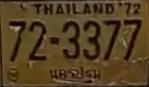2: (28, 20, 46, 60)
3: (82, 20, 100, 60), (61, 20, 79, 59)
7: (123, 18, 141, 60), (8, 20, 25, 61), (103, 19, 120, 60)
NPT: (48, 65, 102, 85)
